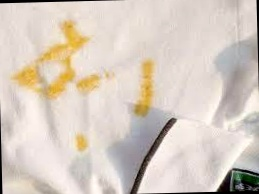mustard: (137, 59, 157, 119), (61, 17, 86, 51), (28, 45, 66, 62), (74, 69, 106, 89), (13, 68, 41, 90), (56, 48, 76, 74), (43, 78, 70, 97), (73, 126, 89, 155)
